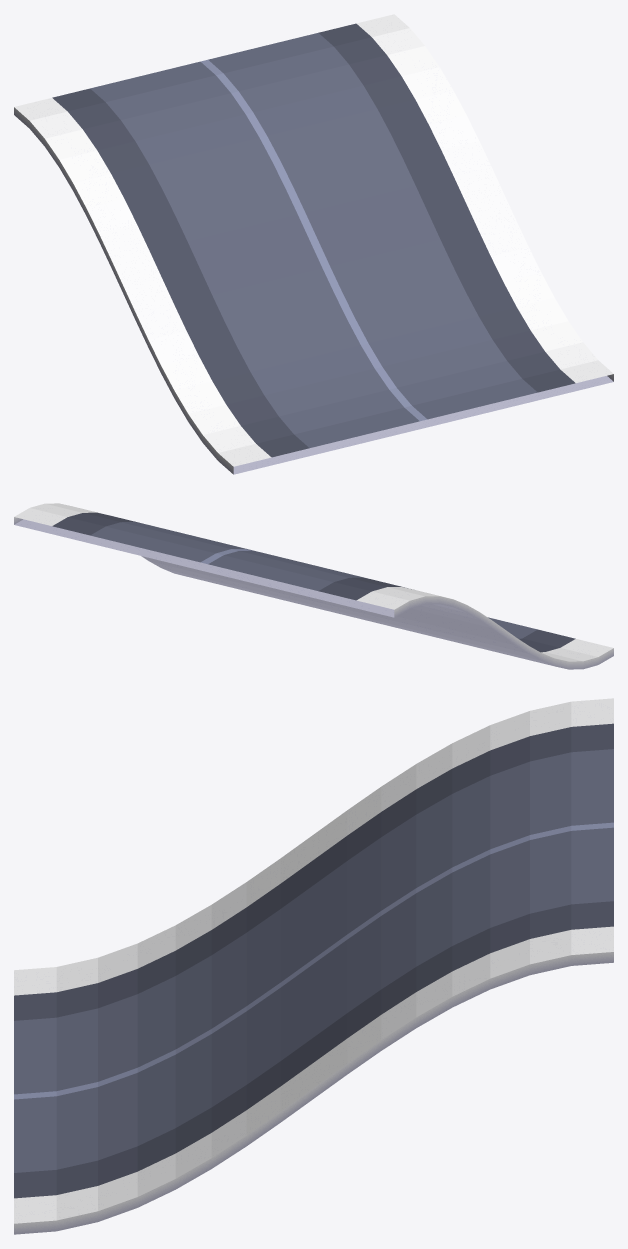
File: road-Straight-Flat-Flat-Up2-Center-Size1.glb
The picture shows the model from 3 angles, top to bottom: view 1: azimuth 30°, elevation 25°; view 2: azimuth 150°, elevation 25°; view 3: azimuth 270°, elevation 25°; orthographic projection. The views are drawn at different scales.
Visible parts, largest first — view 1: road-Straight-Flat-Flat-Up2-Center-Size1; view 2: road-Straight-Flat-Flat-Up2-Center-Size1; view 3: road-Straight-Flat-Flat-Up2-Center-Size1.
Boxes of the visible parts, <box> form: road-Straight-Flat-Flat-Up2-Center-Size1: <box>14,14,613,474</box>; road-Straight-Flat-Flat-Up2-Center-Size1: <box>14,503,613,669</box>; road-Straight-Flat-Flat-Up2-Center-Size1: <box>14,698,613,1234</box>.
Size of the model in its own units: 1 by 0.52 by 1.
1 material, 1 textured.
